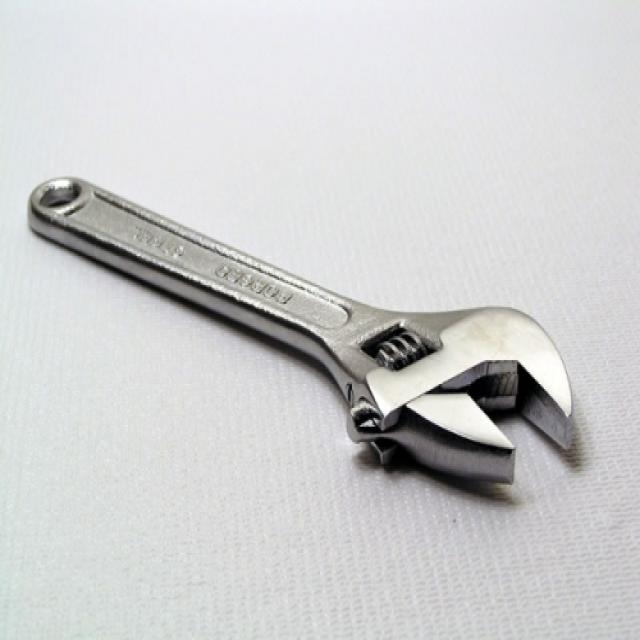wrench: (18, 94, 614, 562)
